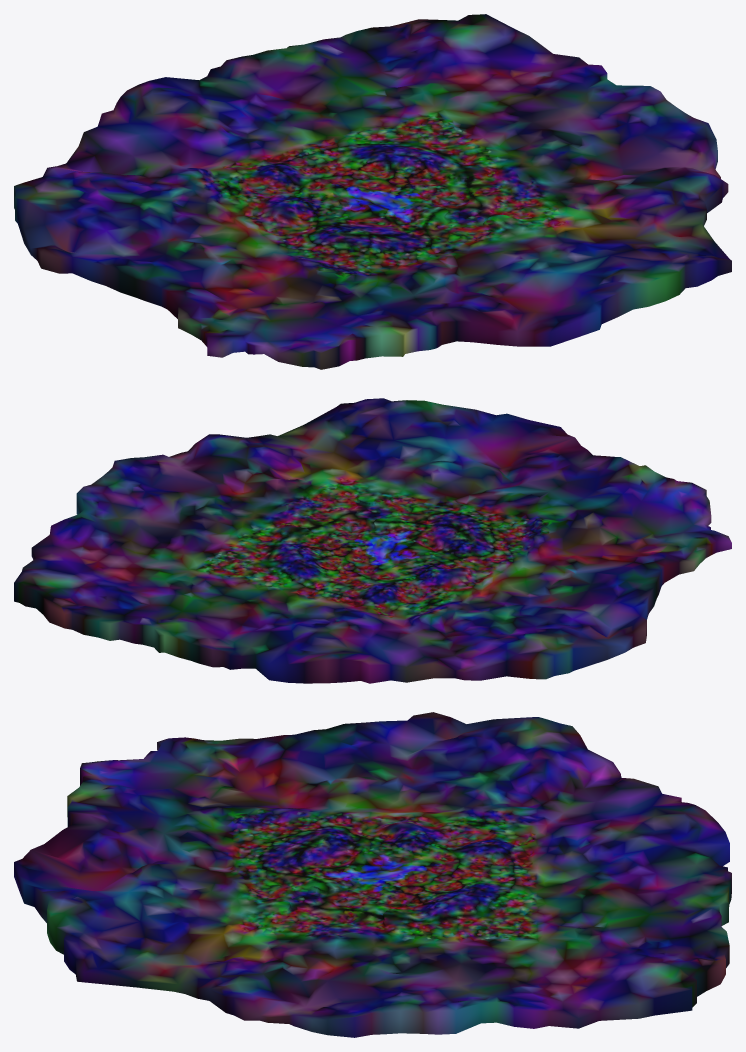
Rendered from SwampTerrain.fbx.
The picture shows the model from 3 angles, top to bottom: view 1: azimuth 30°, elevation 25°; view 2: azimuth 150°, elevation 25°; view 3: azimuth 270°, elevation 25°; orthographic projection. The views are drawn at different scales.
Visible parts, largest first — view 1: Main_Land; view 2: Main_Land; view 3: Main_Land.
Part boxes in pixels (left/top/right/bottom): Main_Land: left=14, top=14, right=731, bottom=369; Main_Land: left=14, top=398, right=731, bottom=683; Main_Land: left=14, top=712, right=731, bottom=1037.
Size of the model in its own units: 1205 by 1179 by 49.63.
